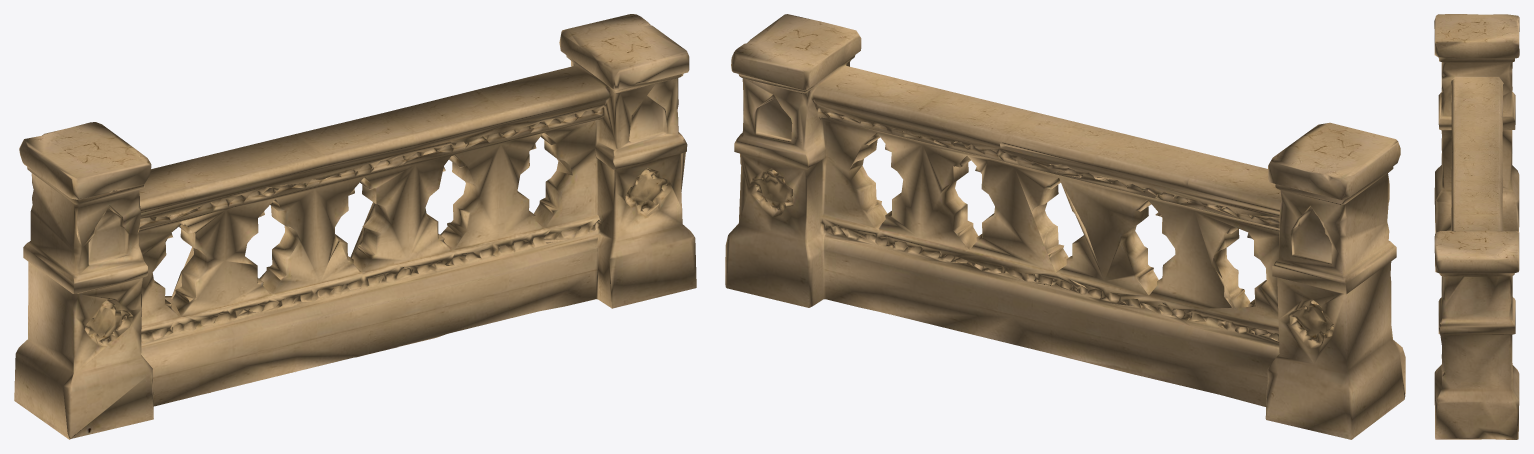
File: city_mardin_parapet.glb
The picture shows the model from 3 angles, left to right: view 1: azimuth 30°, elevation 25°; view 2: azimuth 150°, elevation 25°; view 3: azimuth 270°, elevation 25°; orthographic projection. The views are drawn at different scales.
Visible parts, largest first — view 1: Mesh1.0; view 2: Mesh1.0; view 3: Mesh1.0.
Part boxes in pixels (x1,y1,x2,y2): Mesh1.0: [14, 14, 696, 439]; Mesh1.0: [725, 14, 1405, 439]; Mesh1.0: [1434, 14, 1519, 439].
Size of the model in its own units: 3.54 by 1.4 by 0.5494.
1 material, 1 textured.
